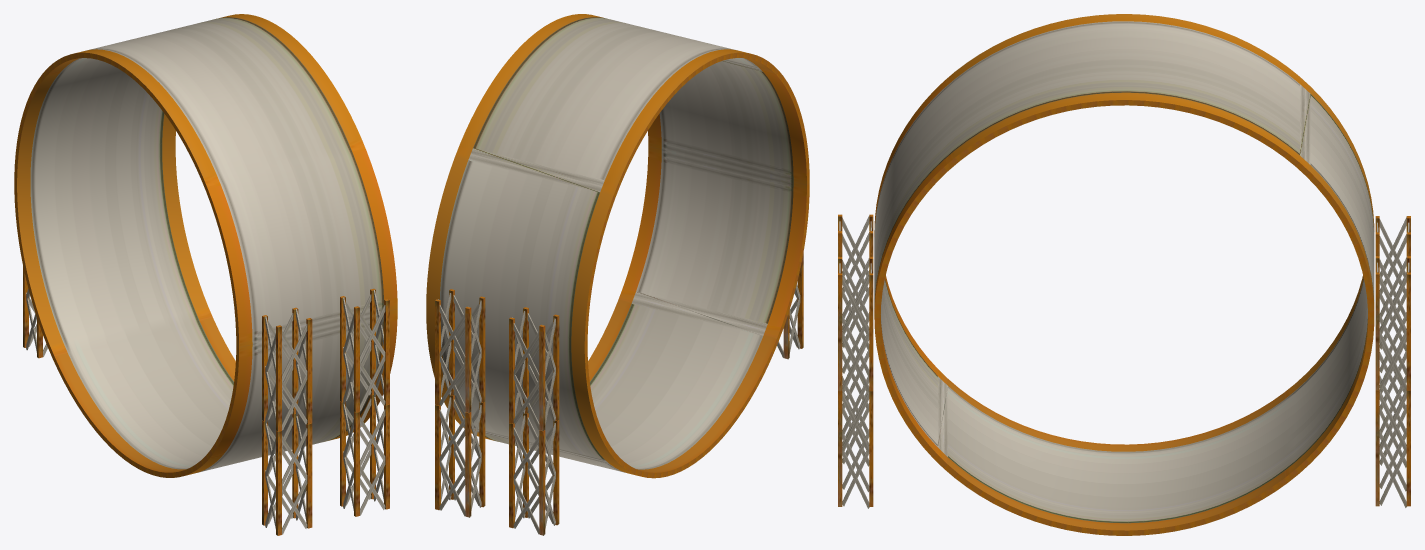
File: huge360.fbx
3 renders of one model, left to right at view 1: azimuth 30°, elevation 25°; view 2: azimuth 150°, elevation 25°; view 3: azimuth 270°, elevation 25°, orthographic. The views are drawn at different scales.
Visible parts, largest first — view 1: Arch_3, OrangeScaffold__1_, OrangeScaffold, OrangeScaffold__4_, OrangeScaffold__5_, OrangeScaffold__7_; view 2: Arch_3, OrangeScaffold__2_, OrangeScaffold__7_, OrangeScaffold__6_, OrangeScaffold__3_, OrangeScaffold; view 3: Arch_3, OrangeScaffold__2_, OrangeScaffold__4_, OrangeScaffold__3_, OrangeScaffold__5_, OrangeScaffold__1_, OrangeScaffold__6_, OrangeScaffold__7_, OrangeScaffold.
Boxes of the visible parts, x1,y1,x2,y2 form: Arch_3: [14, 14, 397, 477]; OrangeScaffold__1_: [262, 307, 312, 431]; OrangeScaffold: [262, 413, 312, 535]; OrangeScaffold__4_: [340, 288, 389, 412]; OrangeScaffold__5_: [340, 394, 389, 516]; OrangeScaffold__7_: [23, 266, 47, 358]; Arch_3: [426, 14, 809, 478]; OrangeScaffold__2_: [435, 289, 485, 412]; OrangeScaffold__7_: [509, 413, 559, 535]; OrangeScaffold__6_: [509, 307, 559, 430]; OrangeScaffold__3_: [435, 395, 485, 517]; OrangeScaffold: [777, 252, 803, 359]; Arch_3: [874, 14, 1374, 535]; OrangeScaffold__2_: [1375, 256, 1410, 391]; OrangeScaffold__4_: [838, 256, 873, 392]; OrangeScaffold__3_: [1375, 374, 1410, 507]; OrangeScaffold__5_: [838, 375, 873, 508]; OrangeScaffold__1_: [838, 214, 873, 350]; OrangeScaffold__6_: [1375, 216, 1410, 351]; OrangeScaffold__7_: [1379, 337, 1406, 467]; OrangeScaffold: [842, 338, 869, 466].
Size of the model in its own units: 2327 by 5500 by 6548.
